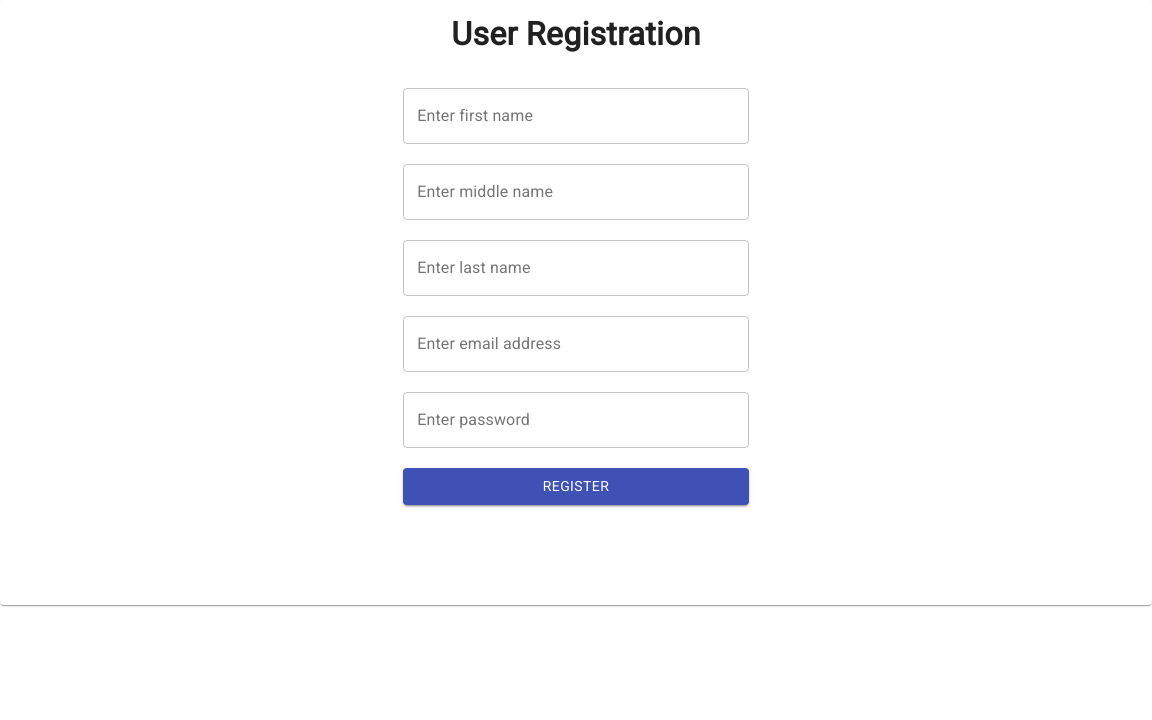
Register container test › show invalid email error message
This screenshot has width=1152, height=720.
In the field with placeholder "Enter email address": (576, 344) x1=403 y1=316 x2=749 y2=372, type "emailinvalid"
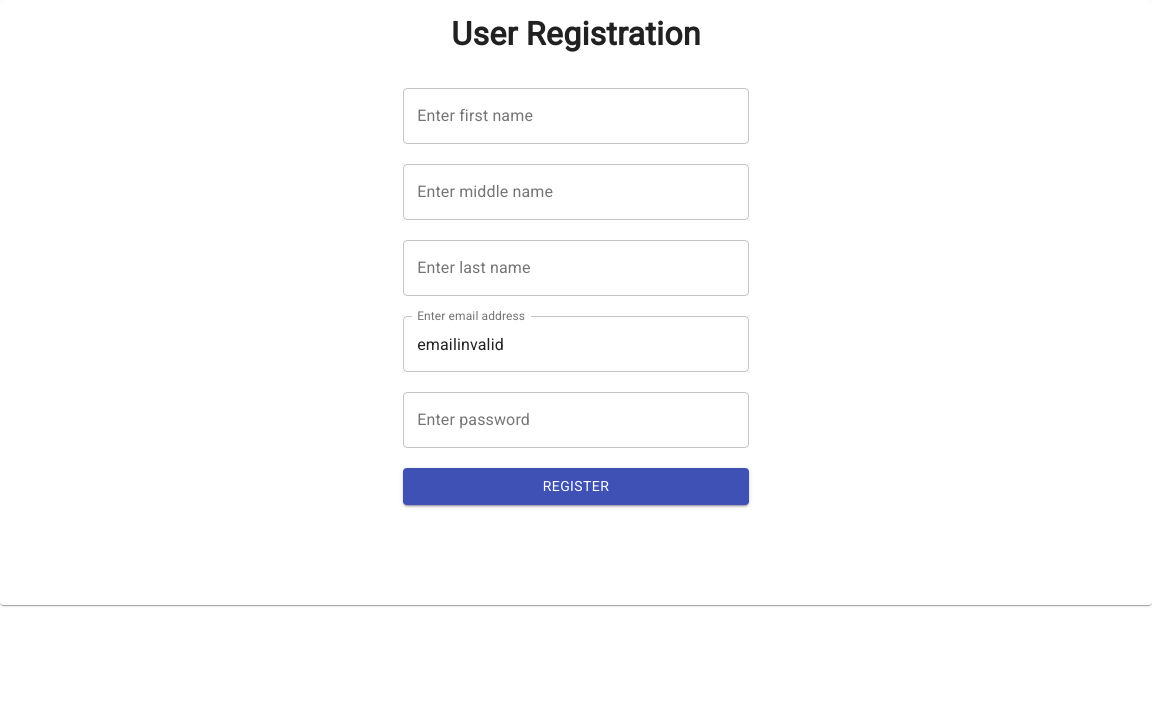
Submit the form from the button "Register", box x1=403 y1=468 x2=749 y2=504
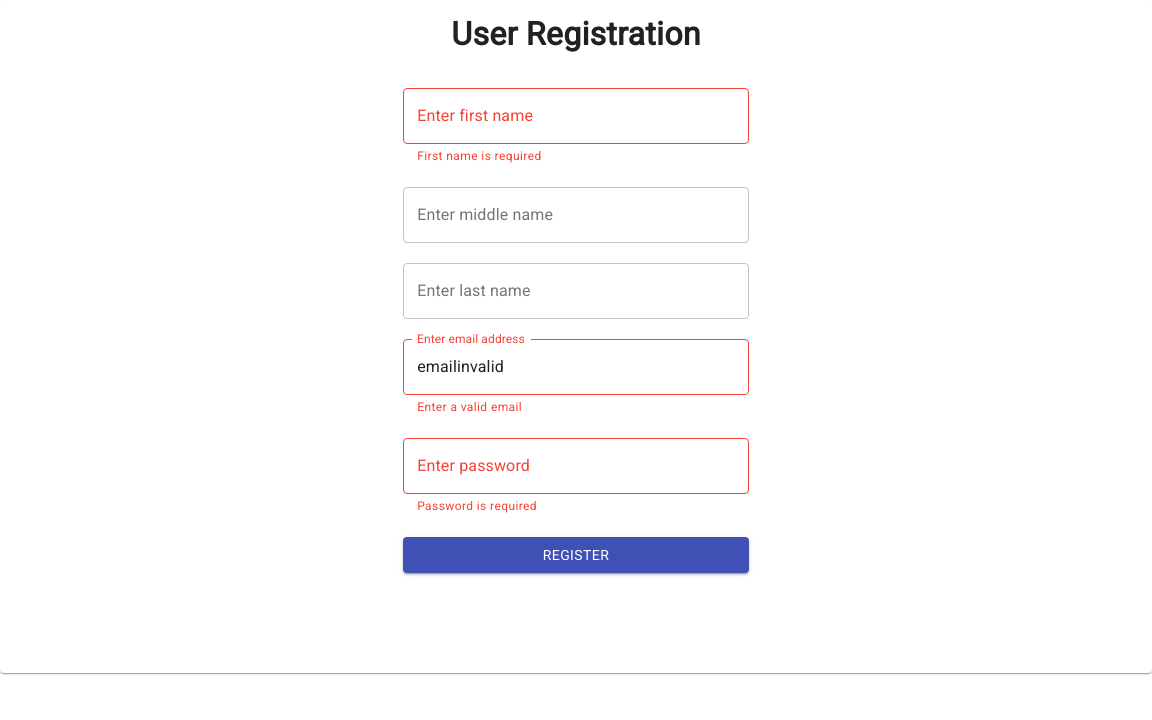
Check: the text "Enter a valid email" is shown, box x1=417 y1=400 x2=522 y2=414
